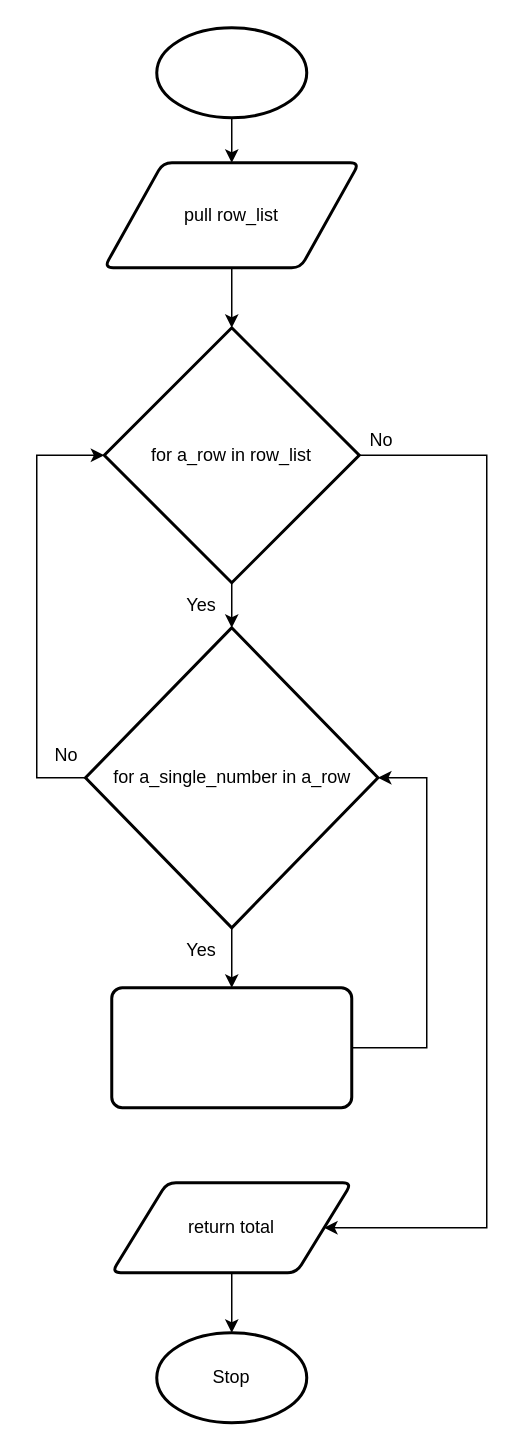
This 525x1449 diagram has some shape labels left out. Here are the shapes that lost their labels. From the top down, the centre of each, then its label:
At (231,72): "Start".
At (231,1047): "total = total + a_single_number".
